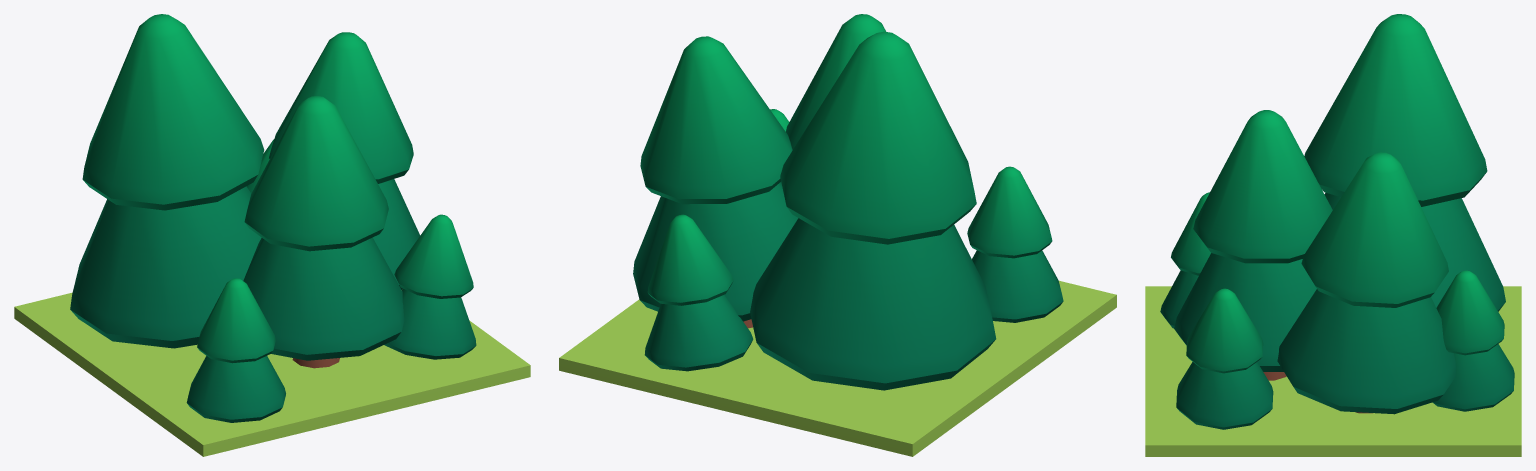
File: forest.glb
The picture shows the model from 3 angles, left to right: view 1: azimuth 30°, elevation 25°; view 2: azimuth 150°, elevation 25°; view 3: azimuth 270°, elevation 25°; orthographic projection. The views are drawn at different scales.
Parts seen in each view (by area): view 1: Forest; view 2: Forest; view 3: Forest.
Part boxes in pixels (bbox=[...]): Forest: bbox=[14, 14, 530, 456]; Forest: bbox=[559, 14, 1116, 456]; Forest: bbox=[1145, 14, 1521, 456].
Size of the model in its own units: 0.29 by 0.2795 by 0.29.
Materials: 2 (2 with a texture image).
